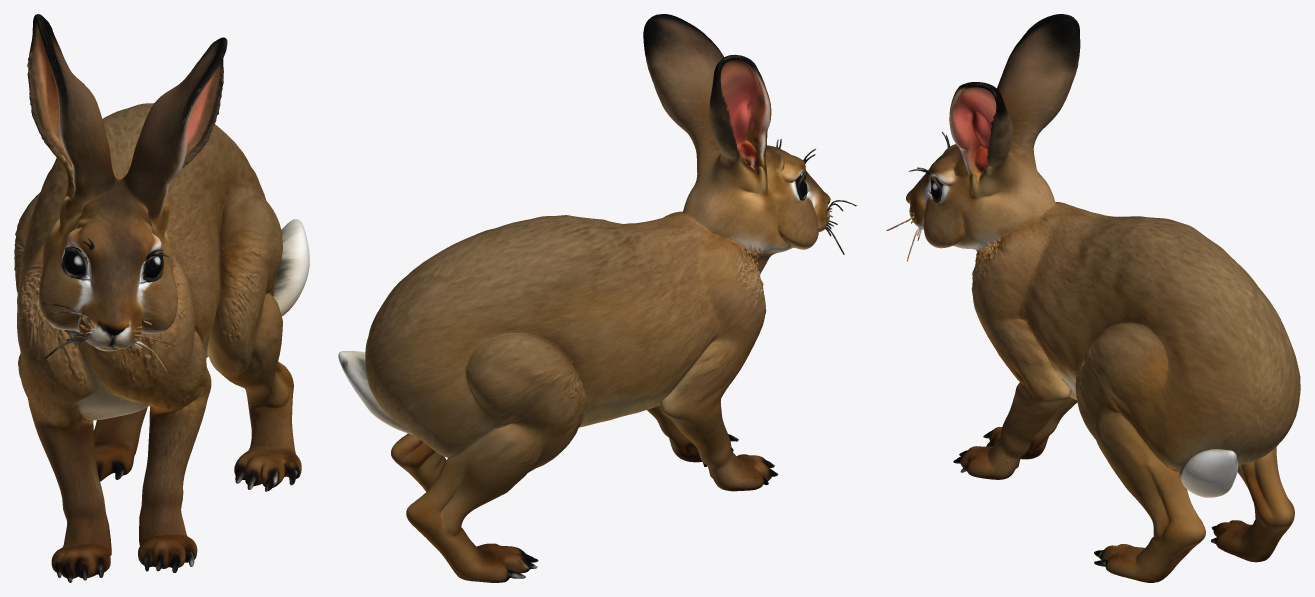
File: pixal3d-02.glb
3 views of the same model, side by side, from view 1: azimuth 30°, elevation 25°; view 2: azimuth 150°, elevation 25°; view 3: azimuth 270°, elevation 25° (orthographic). The views are drawn at different scales.
Bounding box in the file's own units: 0.6861 × 0.8727 × 0.6985.
1 material, 1 textured.
